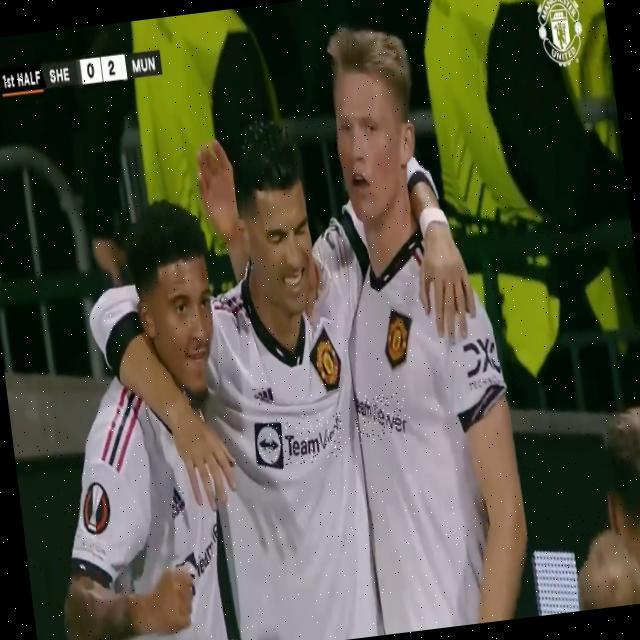Adidas: (167, 482, 187, 519), (252, 386, 275, 408)
TeamViewer: (254, 411, 347, 469), (353, 391, 408, 444)
